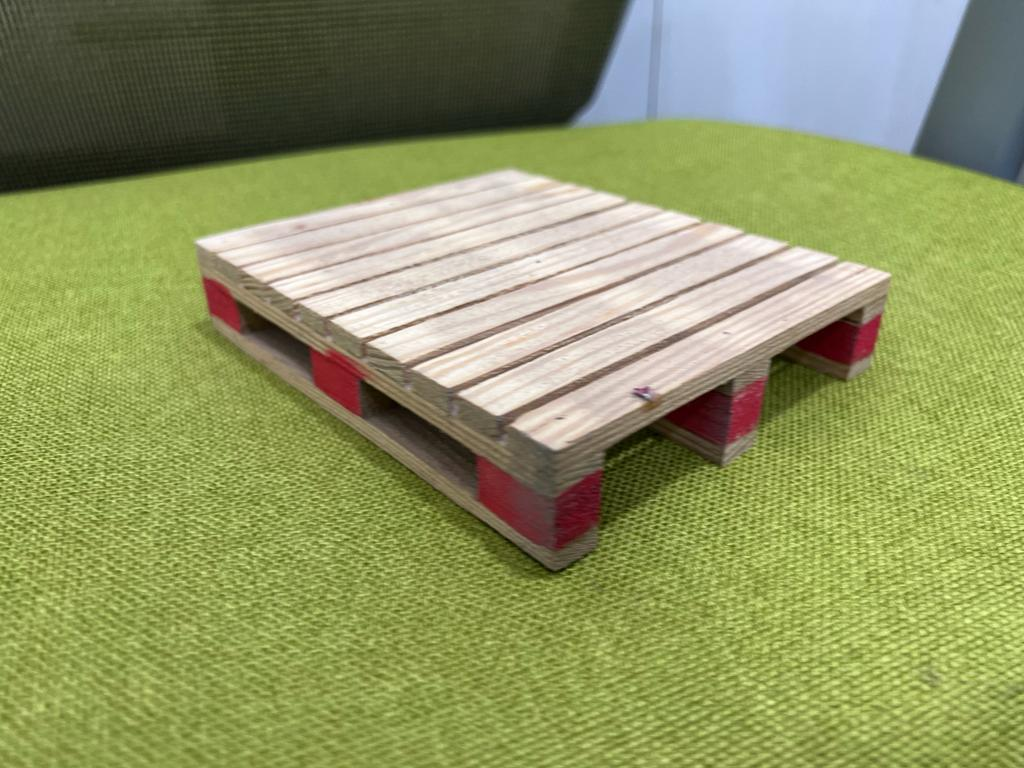pallet: (155, 165, 924, 581)
